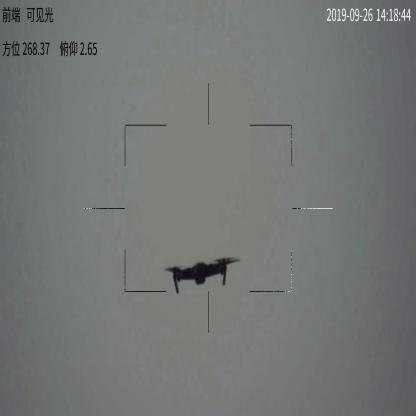uav: (162, 255, 242, 296)
